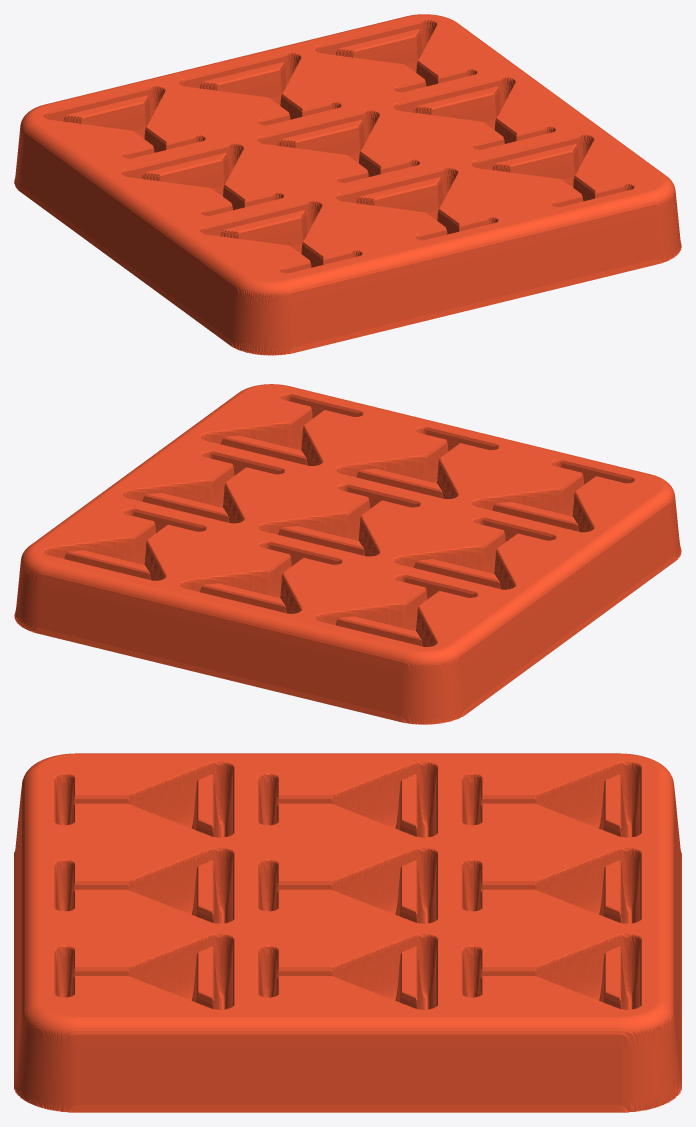
The model's file is mold.glb.
3 renders of one model, top to bottom at view 1: azimuth 30°, elevation 25°; view 2: azimuth 150°, elevation 25°; view 3: azimuth 270°, elevation 25°, orthographic. The views are drawn at different scales.
Visible parts, largest first — view 1: geometry_0; view 2: geometry_0; view 3: geometry_0.
Boxes of the visible parts, <box> form: geometry_0: <box>14,14,681,355</box>; geometry_0: <box>14,384,681,724</box>; geometry_0: <box>14,753,681,1112</box>.
Bounding box in the file's own units: 0.0964 × 0.0136 × 0.0964.
